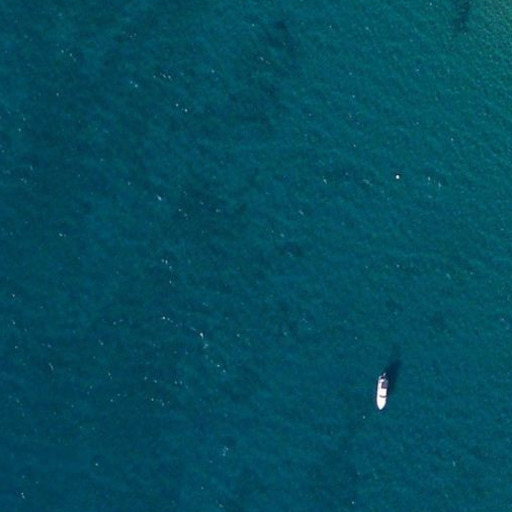ship: (372, 368, 392, 414)
